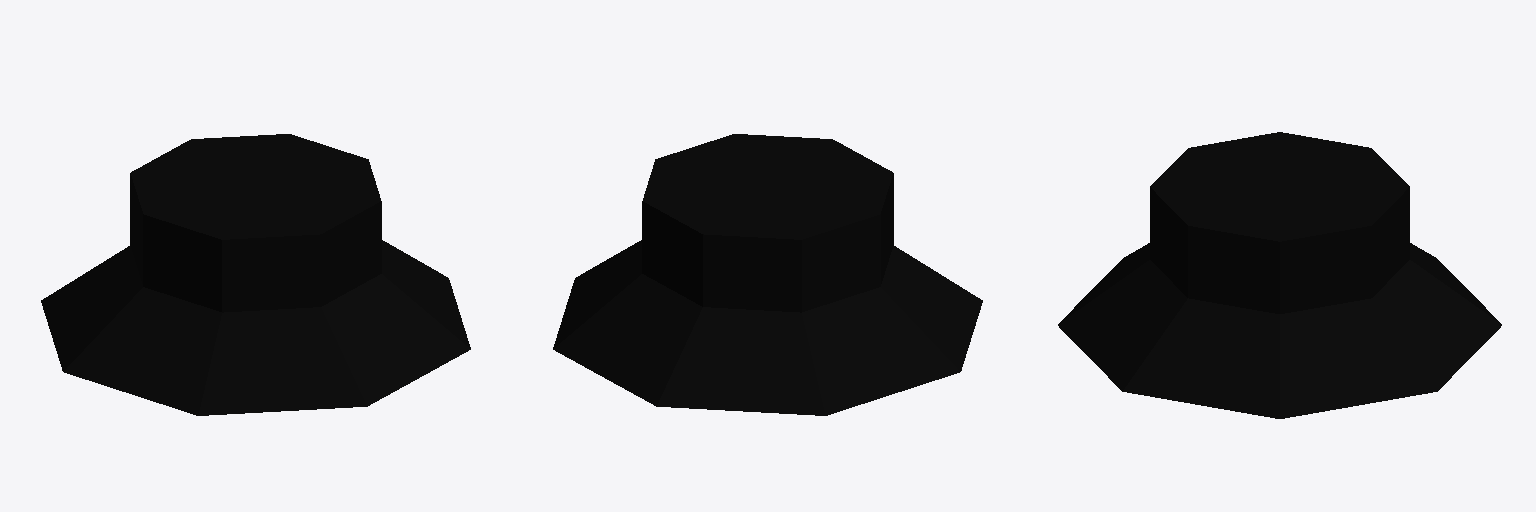
Rendered from CeilingLamp4.obj.
3 views of the same model, side by side, from view 1: azimuth 30°, elevation 25°; view 2: azimuth 150°, elevation 25°; view 3: azimuth 270°, elevation 25° (orthographic).
Parts seen in each view (by area): view 1: CeilingLamp4_Cylinder; view 2: CeilingLamp4_Cylinder; view 3: CeilingLamp4_Cylinder.
Boxes of the visible parts, x1=… form: CeilingLamp4_Cylinder: x1=41, y1=134, x2=470, y2=415; CeilingLamp4_Cylinder: x1=553, y1=134, x2=982, y2=415; CeilingLamp4_Cylinder: x1=1058, y1=132, x2=1501, y2=418.
Size of the model in its own units: 0.6534 by 0.2238 by 0.6534.